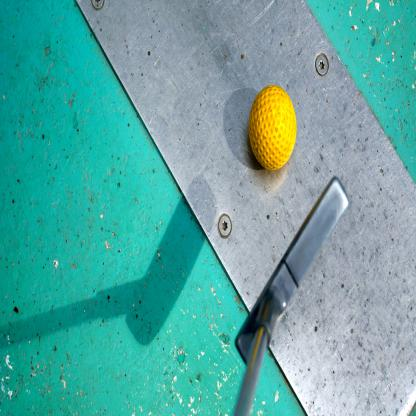Ball: (247, 86, 297, 175)
